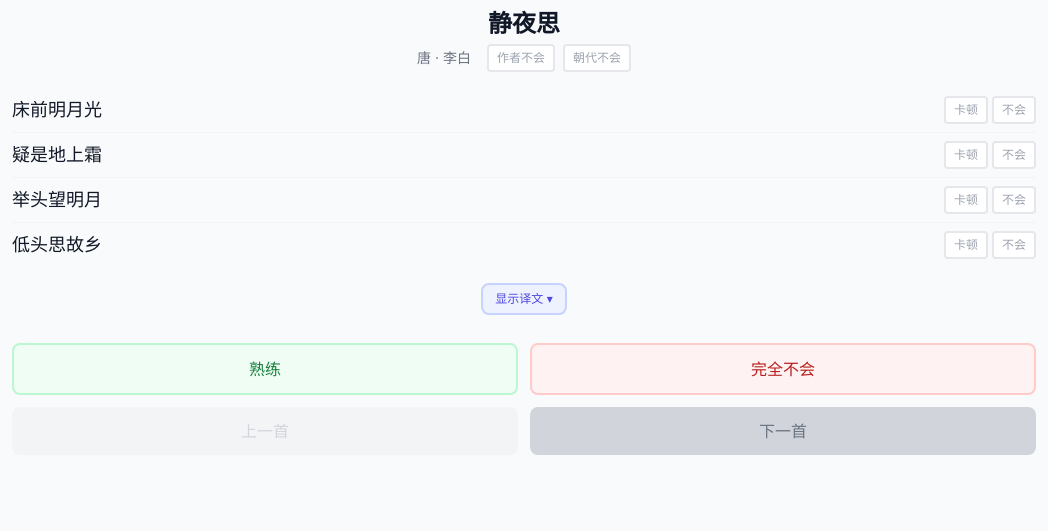
Test: RecitationCard › Yiwen toggle › hides translation when yiwen button is clicked again
Click the button "显示译文 ▾": (524, 299) x1=481 y1=283 x2=567 y2=315
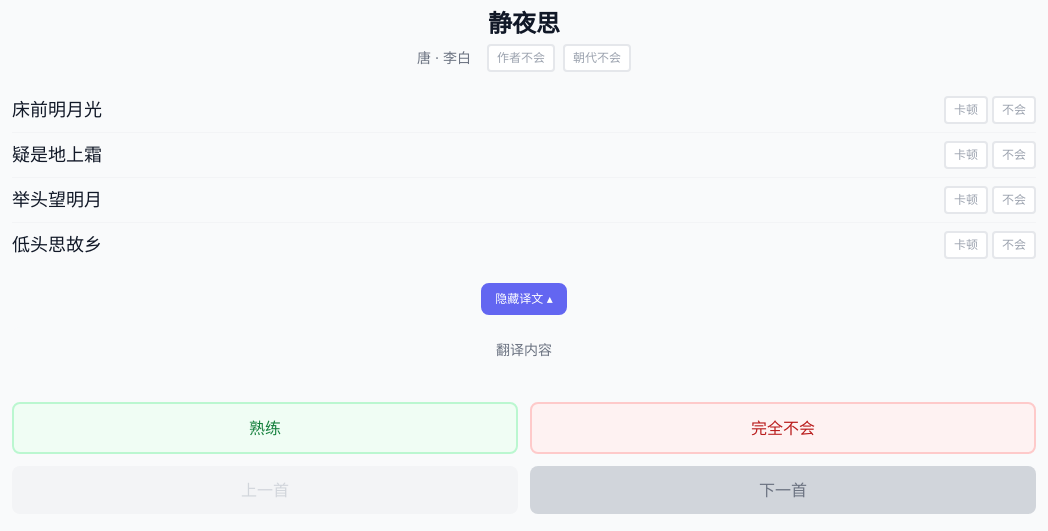
expect the text "翻译内容" is shown: met, box x1=496 y1=341 x2=552 y2=358
Click the button "隐藏译文 ▴": (524, 299) x1=481 y1=283 x2=567 y2=315
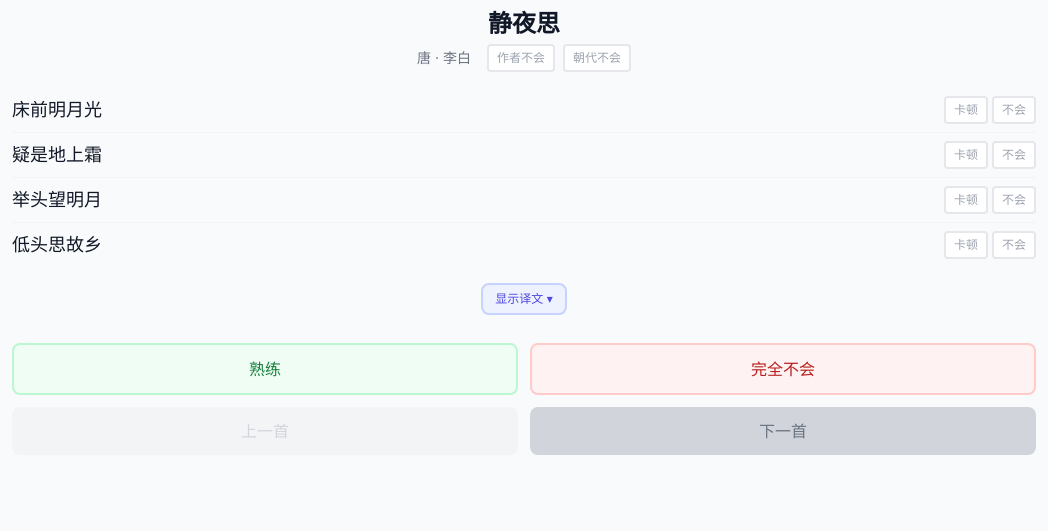
expect the text "翻译内容" is gone: met
